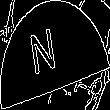N_S: (39, 26, 71, 84)
